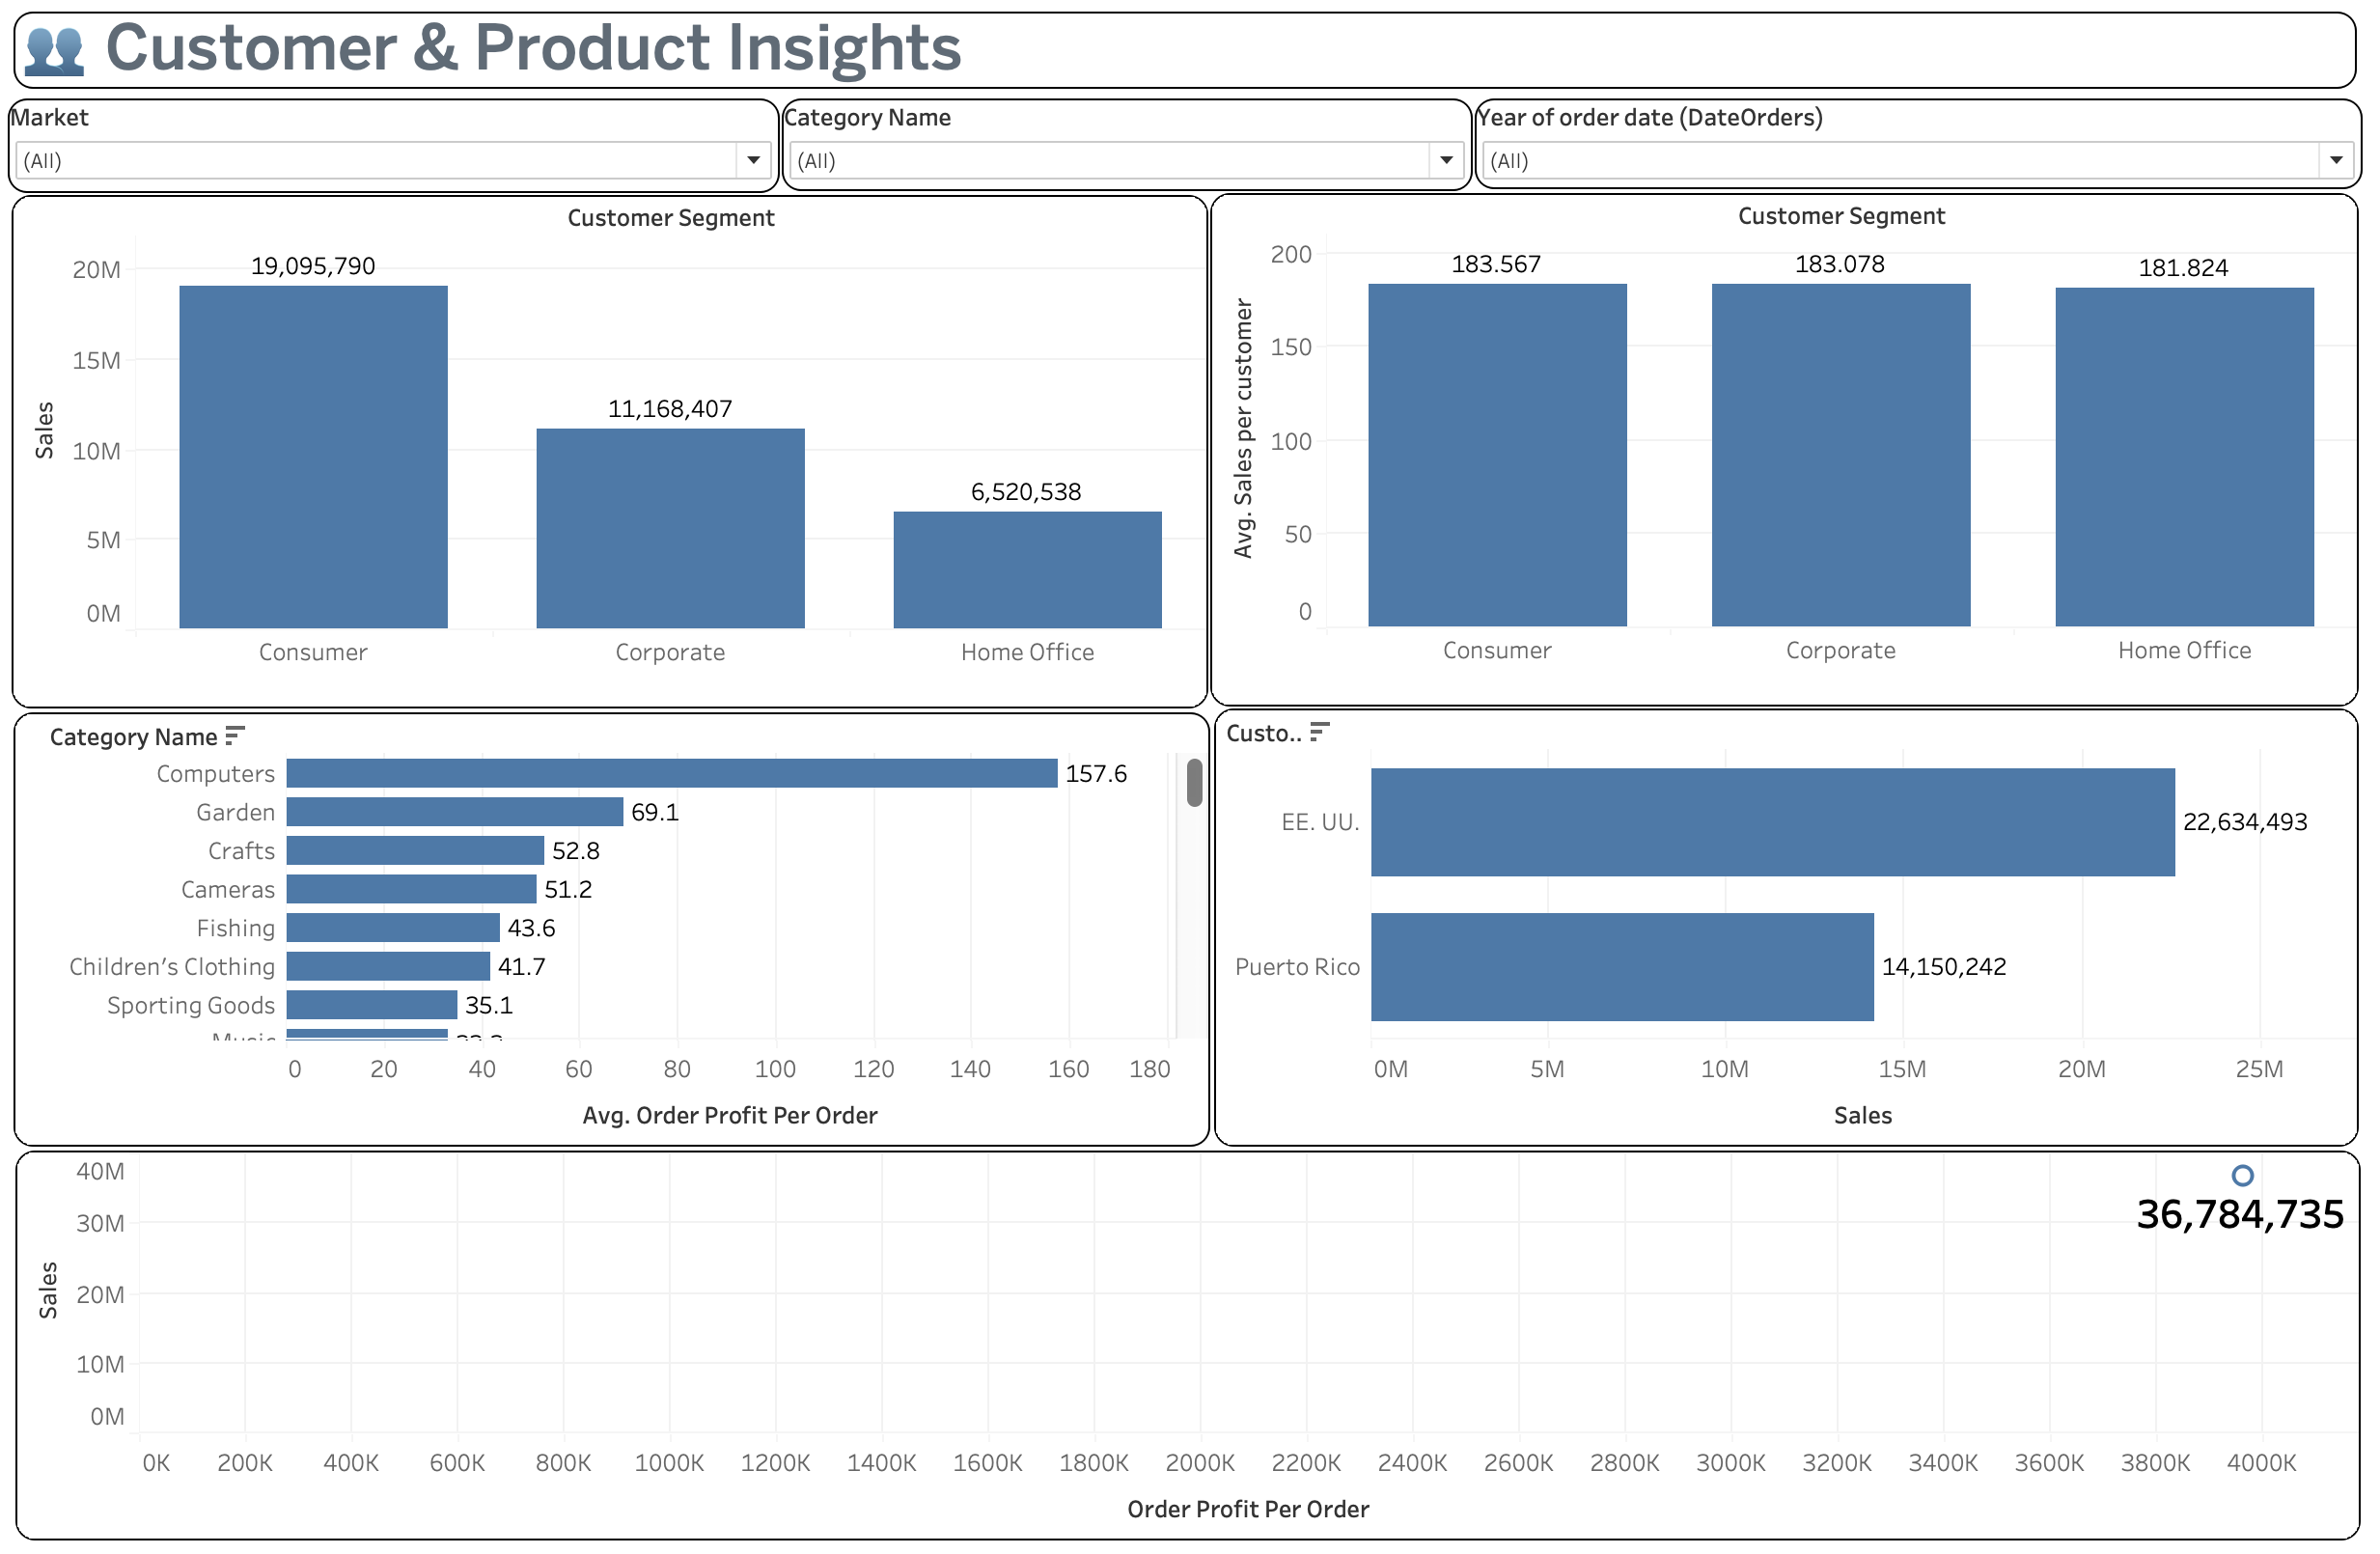

What the dashboard file says about the page in this screenshot:
{"tool":"tableau","page":{"name":"👥 Customer & Product Insights ","canvas":[1222,800],"ordinal":0},"visuals":[{"type":"title","box":[0,0,1222,48]},{"type":"filter","title":"👥 Sales by Customer Segment","param":"[federated.0ue46na07isqf50zyf6wb1y4oivp].[none:Market:nk]","box":[1,49,400,49]},{"type":"filter","title":"👥 Sales by Customer Segment","param":"[federated.0ue46na07isqf50zyf6wb1y4oivp].[none:Category Name:nk]","box":[402,49,358,48]},{"type":"filter","title":"👥 Sales by Customer Segment","param":"[federated.0ue46na07isqf50zyf6wb1y4oivp].[yr:order date (DateOrders):ok]","box":[761,49,460,47]},{"type":"worksheet","title":"💵 Avg Sales per Customer Segment","mark":"Automatic","rows":["Sales per customer"],"cols":["Customer Segment"],"box":[624,98,595,266]},{"type":"worksheet","title":"👥 Sales by Customer Segment","mark":"Automatic","rows":["Sales"],"cols":["Customer Segment"],"box":[3,99,620,266]},{"type":"worksheet","title":"🗺️ Sales by Customer Country","mark":"Automatic","rows":["Customer Country"],"cols":["Sales"],"box":[626,365,593,227]},{"type":"worksheet","title":"📈 Avg Profit by Category","mark":"Automatic","rows":["Category Name"],"cols":["Order Profit Per Order"],"box":[4,367,620,225]},{"type":"worksheet","title":"🔵 Sales vs Profit","mark":"Automatic","rows":["Sales"],"cols":["Order Profit Per Order"],"box":[5,594,1215,202]}]}

Visuals, with their boxes in screenshot pixels (x1, y1, x2, y2), scaled from the page's 1222x800 canvas onto the 2380x1554 screenshot:
title: 0 0 2379 94
"👥 Sales by Customer Segment" filter: 2 96 781 190
"👥 Sales by Customer Segment" filter: 783 96 1481 188
"👥 Sales by Customer Segment" filter: 1482 96 2378 186
"💵 Avg Sales per Customer Segment" worksheet: 1215 190 2374 708
"👥 Sales by Customer Segment" worksheet: 6 192 1213 709
"🗺️ Sales by Customer Country" worksheet: 1219 709 2374 1150
"📈 Avg Profit by Category" worksheet: 8 713 1215 1150
"🔵 Sales vs Profit" worksheet: 10 1153 2376 1546
